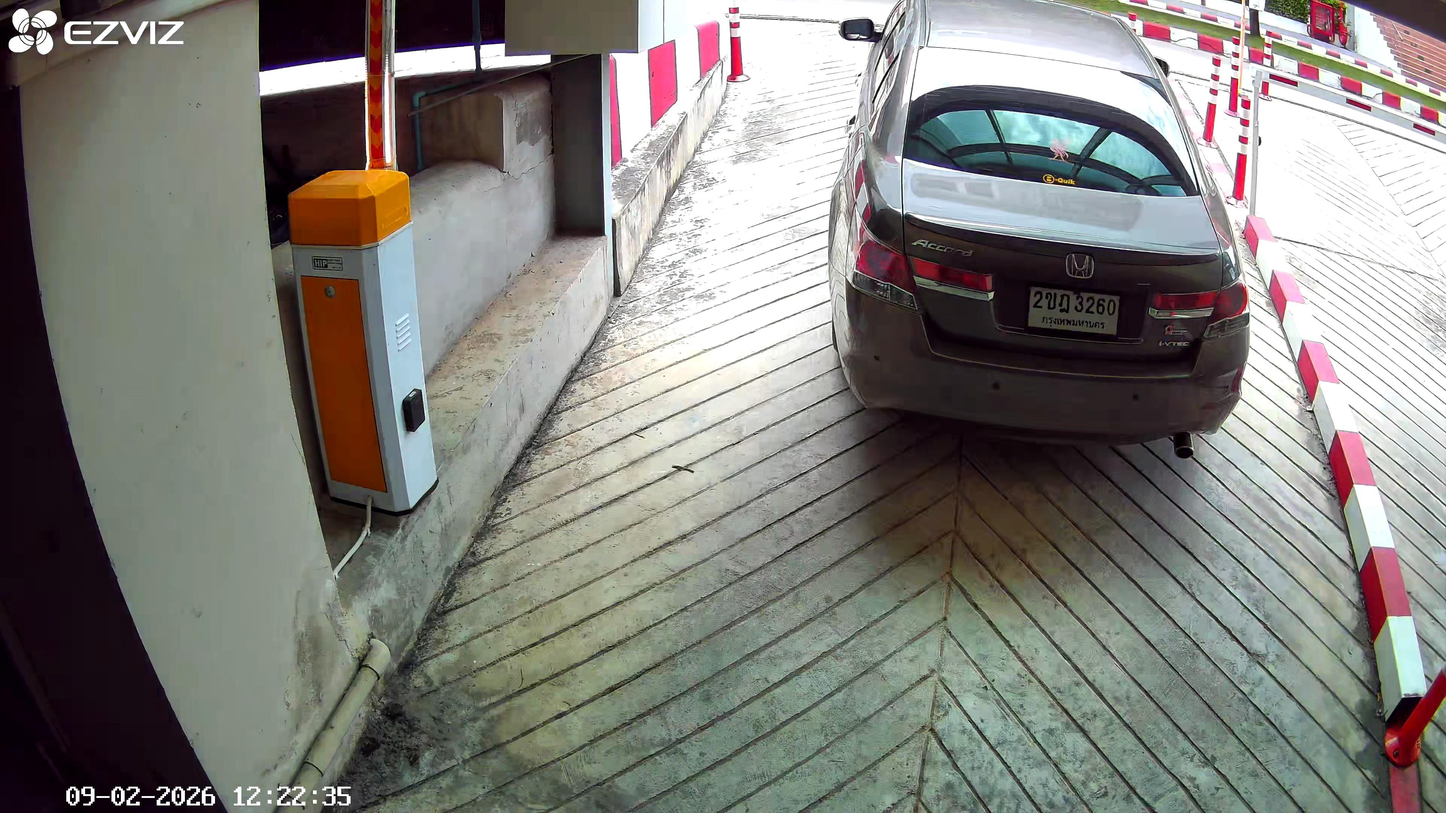car: (826, 0, 1254, 460)
license-plate: (1023, 284, 1125, 341)
